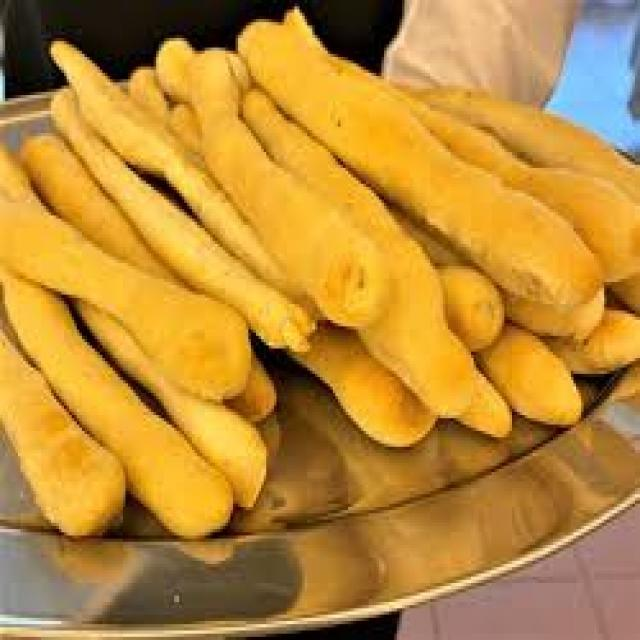Grissini: (8, 26, 630, 517)
